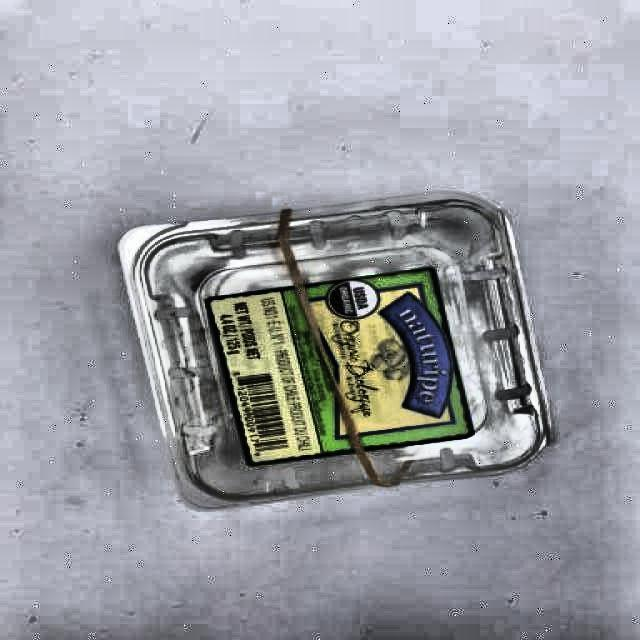plastic: (120, 192, 550, 507)
